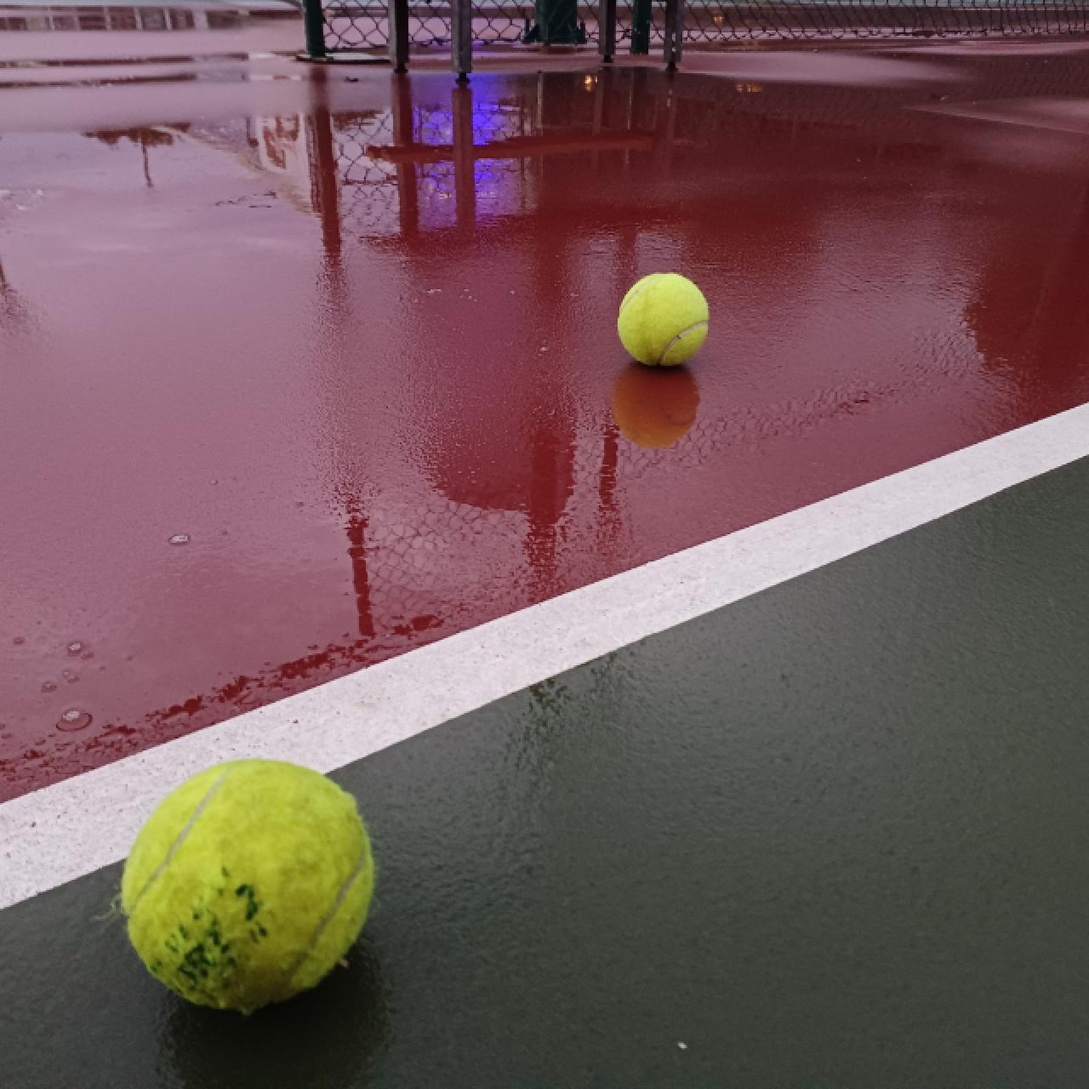tennis-ball: (118, 753, 378, 1013), (617, 271, 712, 371)
